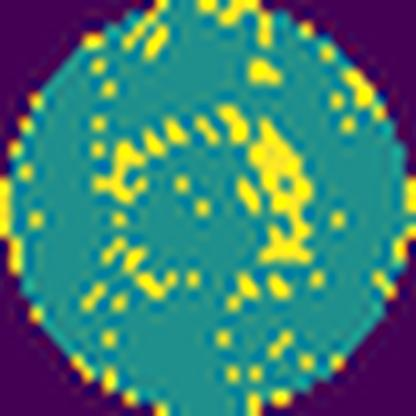Donut: (88, 95, 324, 311)
